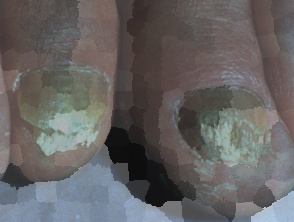Nail_psoriasis: (151, 66, 289, 211), (7, 48, 123, 169)
